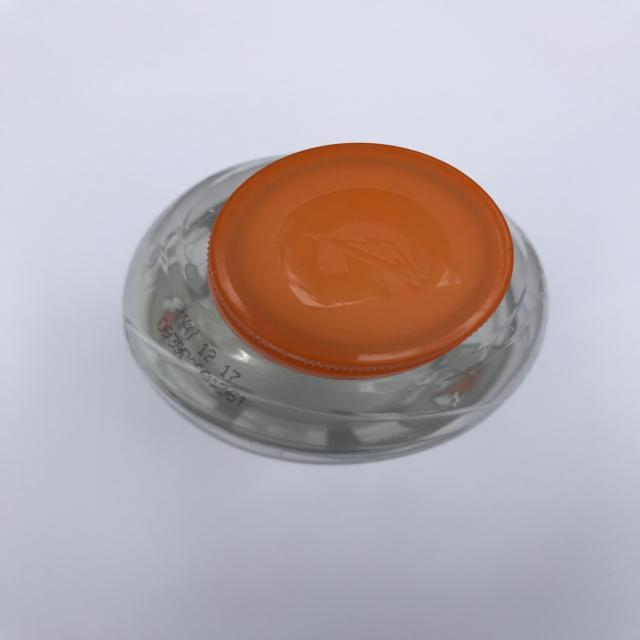plastic: (117, 144, 546, 466)
